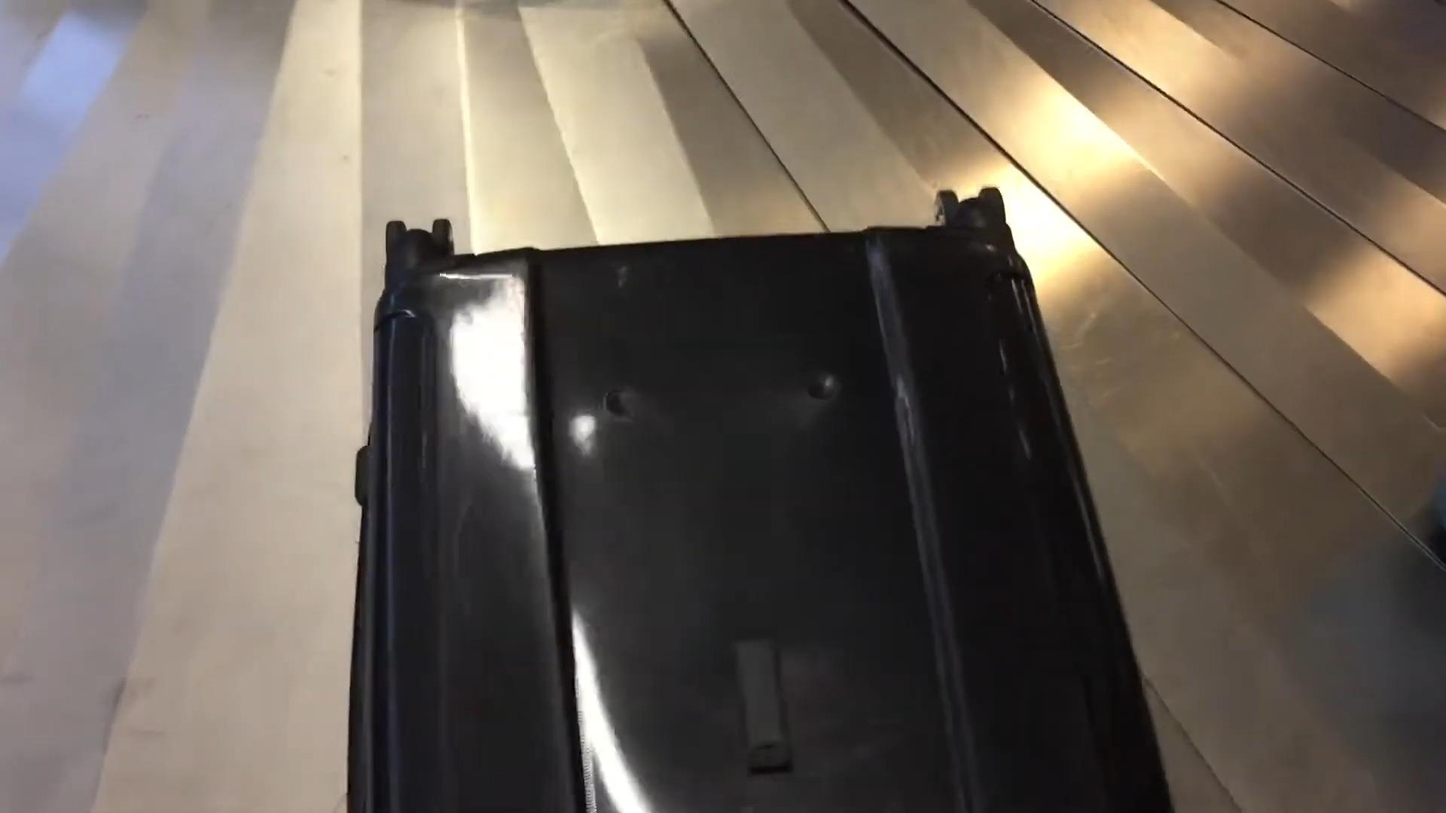luggage: (345, 182, 1179, 813)
